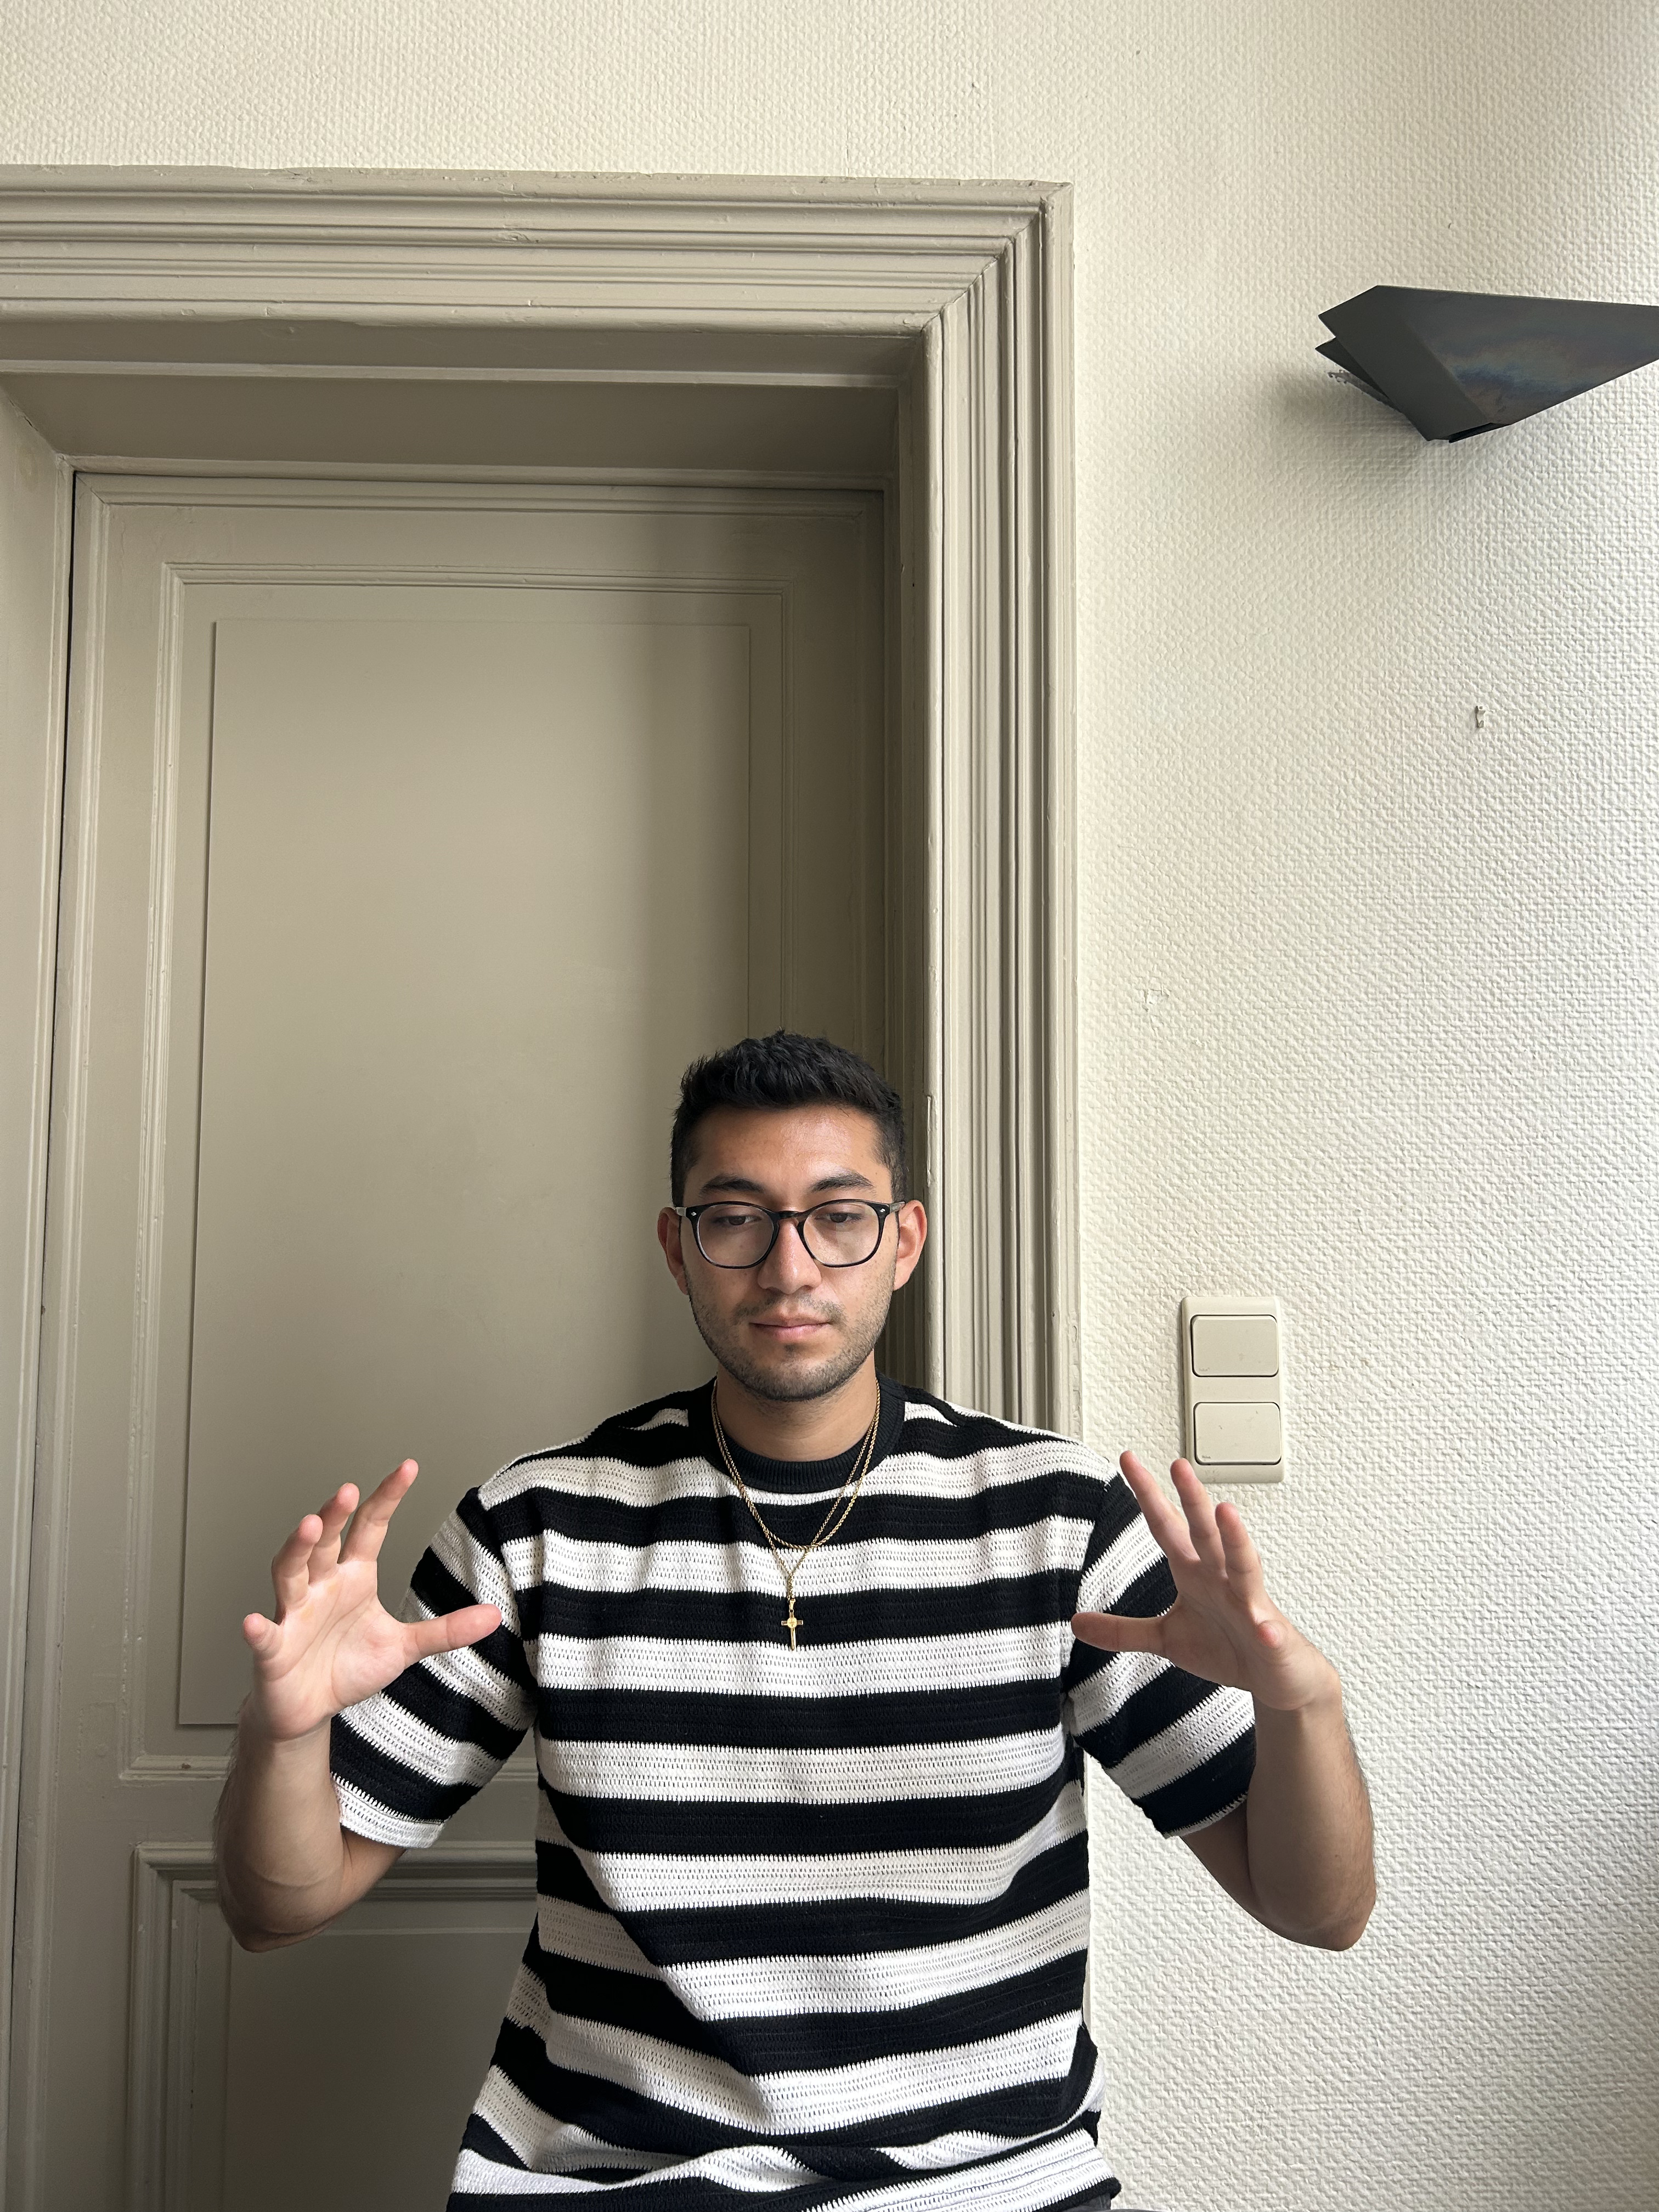explode: (211, 1029, 1378, 2207), (704, 1388, 885, 1651)
